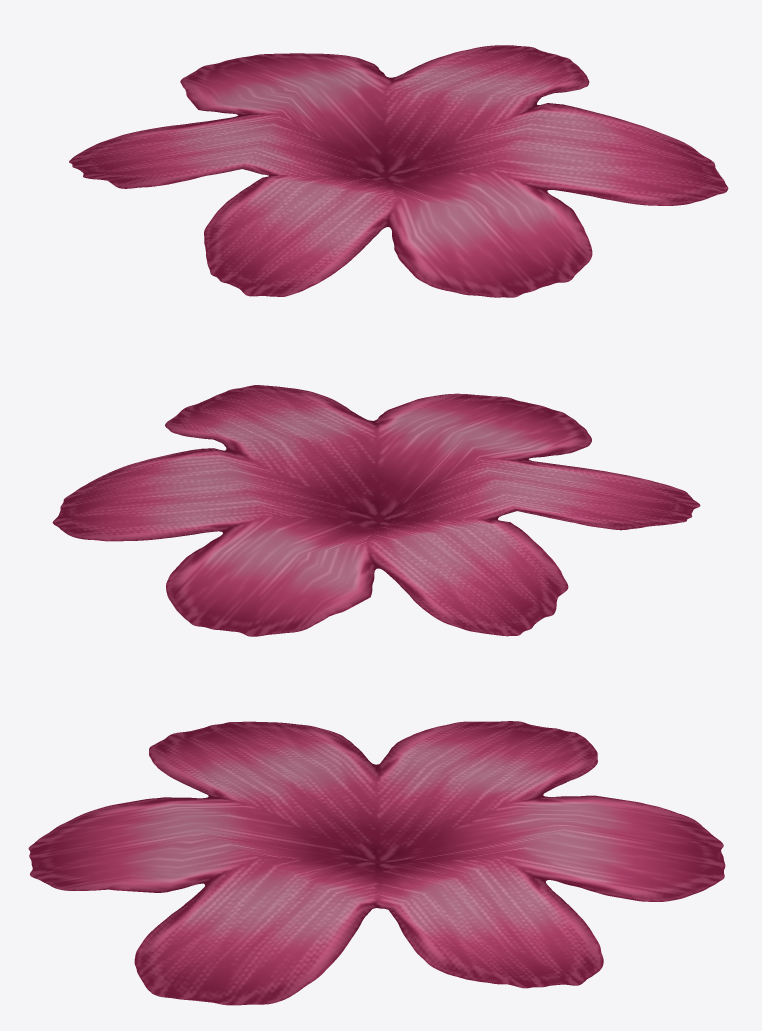
Rendered from Flower05.glb.
3 renders of one model, top to bottom at view 1: azimuth 30°, elevation 25°; view 2: azimuth 150°, elevation 25°; view 3: azimuth 270°, elevation 25°, orthographic. The views are drawn at different scales.
Parts seen in each view (by area): view 1: Flower05; view 2: Flower05; view 3: Flower05.
Boxes of the visible parts, x1,y1,x2,y2 form: Flower05: (69,45,728,297); Flower05: (52,385,700,636); Flower05: (28,721,725,1005).
Size of the model in its own units: 0.6029 by 0.0375 by 0.6029.
1 material, 1 textured.
